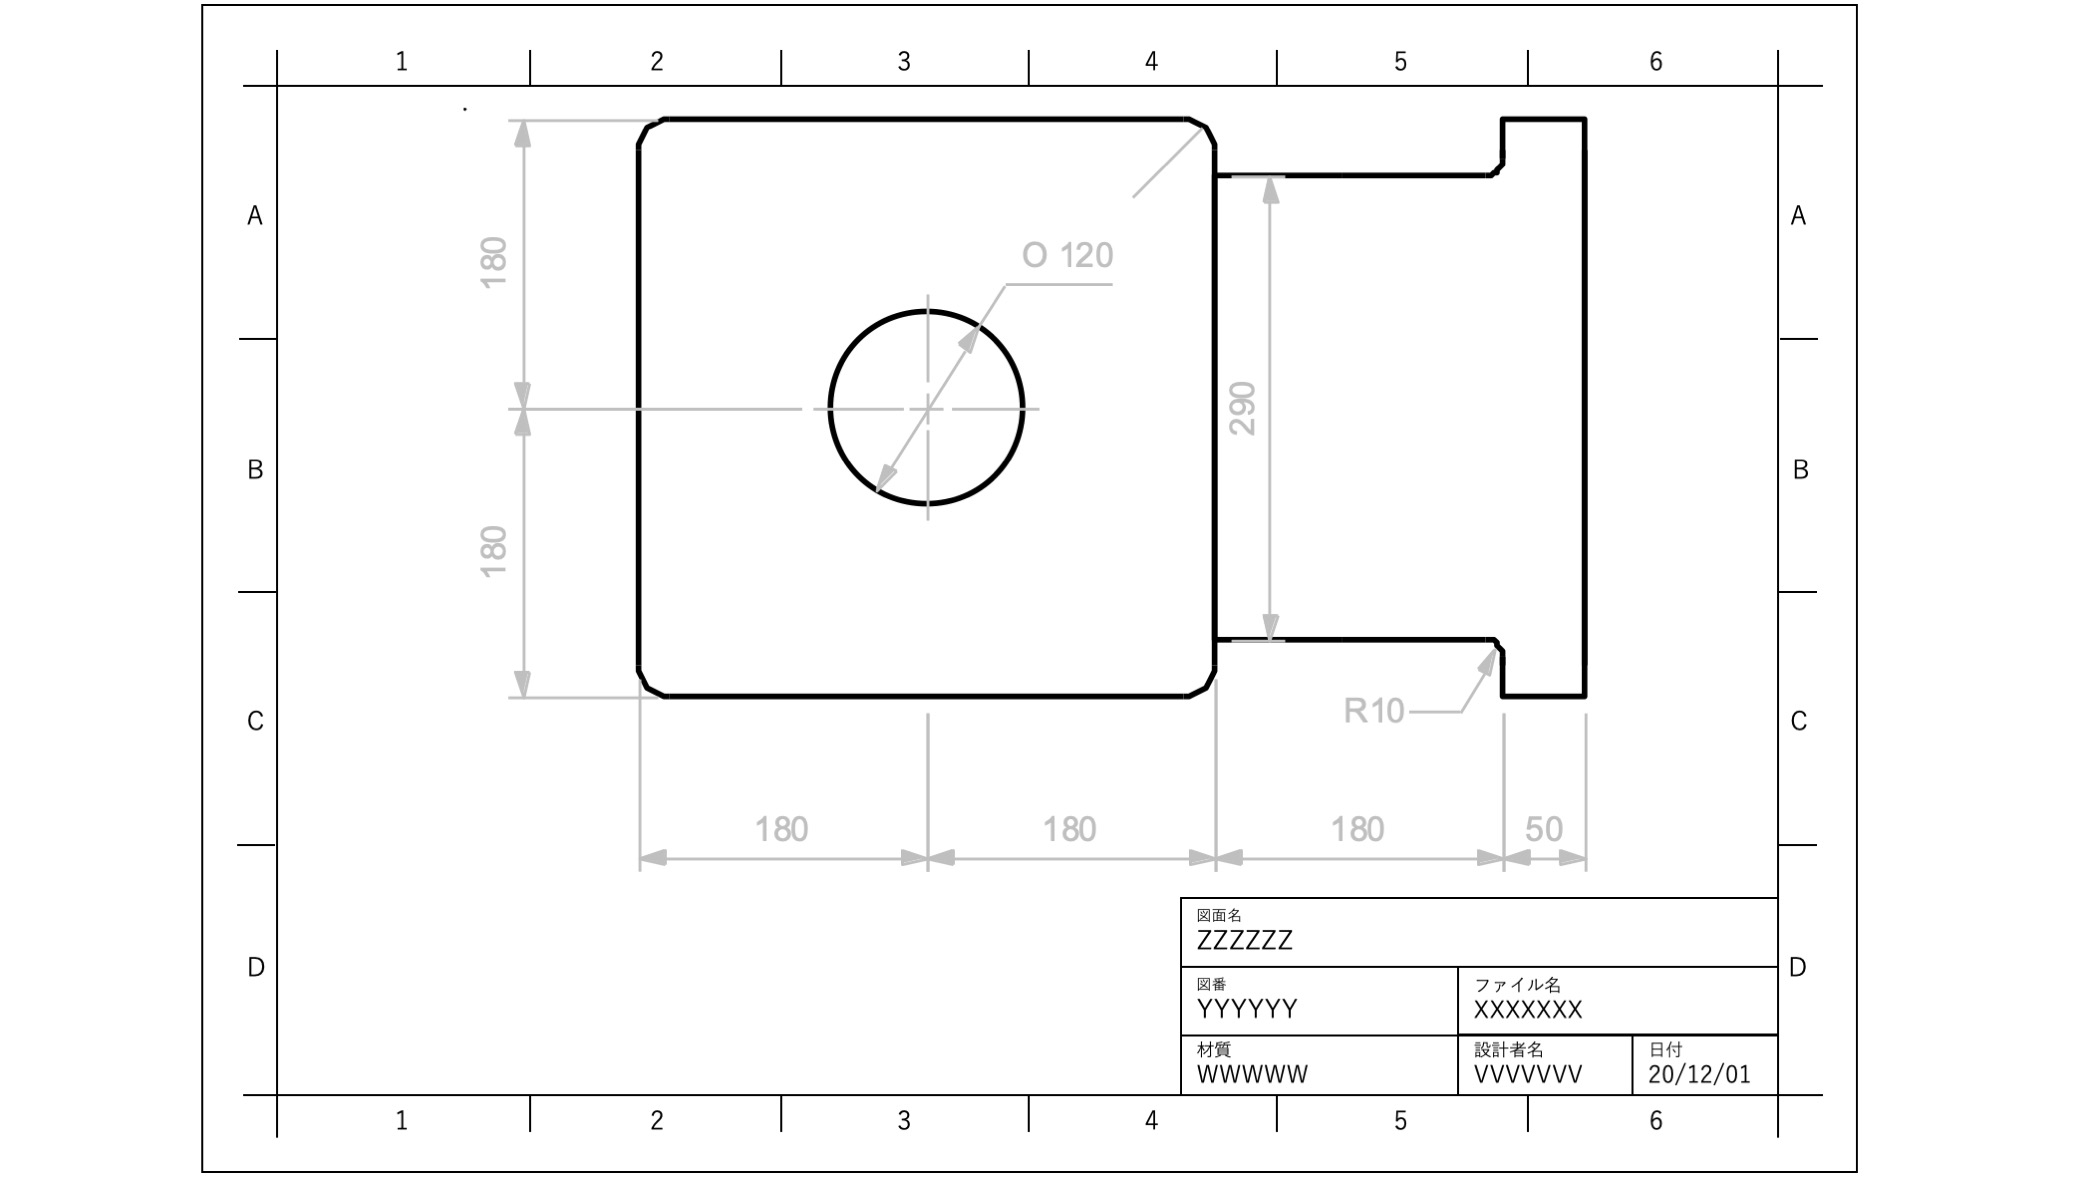circle: (824, 294, 1025, 512)
